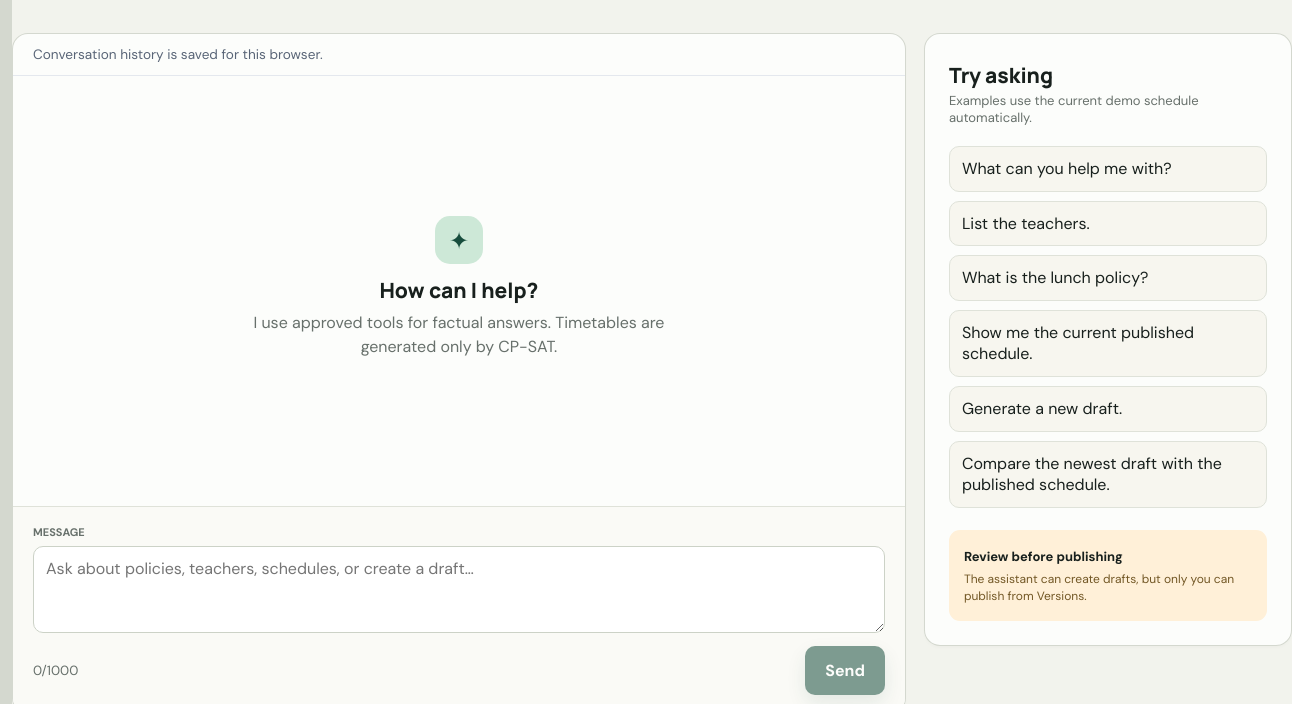
Scenario: shows a stable unavailable message without affecting scheduling
(page scrolled)
In the text box labelled "Message": (459, 590) [33,546,885,633], type "Hello"
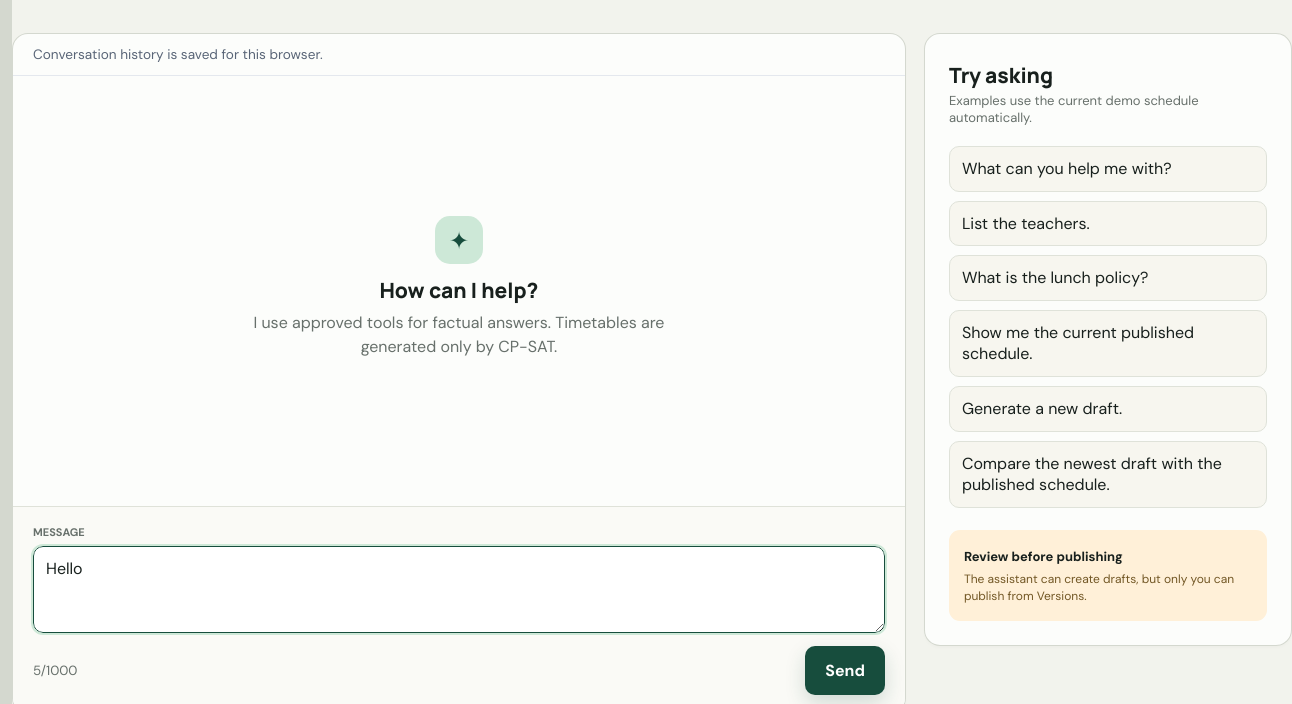
Click the button "Send": (845, 671) [805,646,885,695]
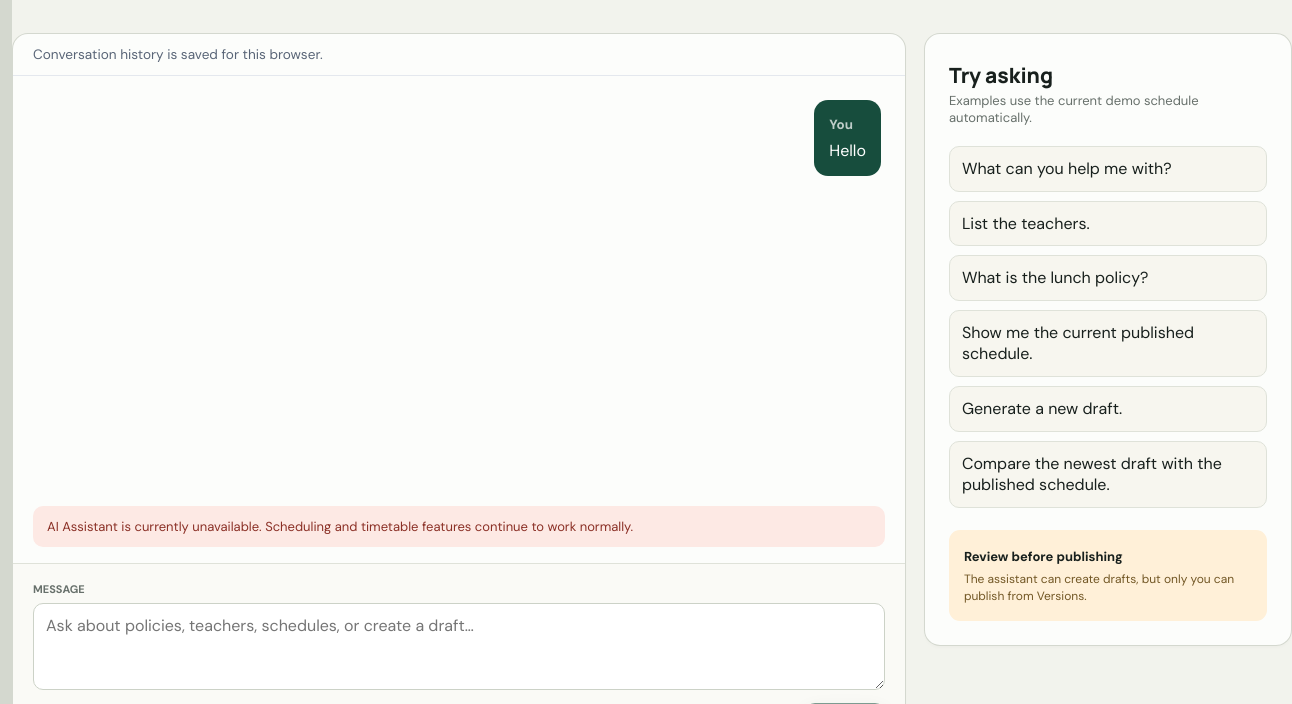
Result: the message shows "AI Assistant is currently unavailable. Scheduling and timetable features continue to work normally." at [47,518,633,535]
